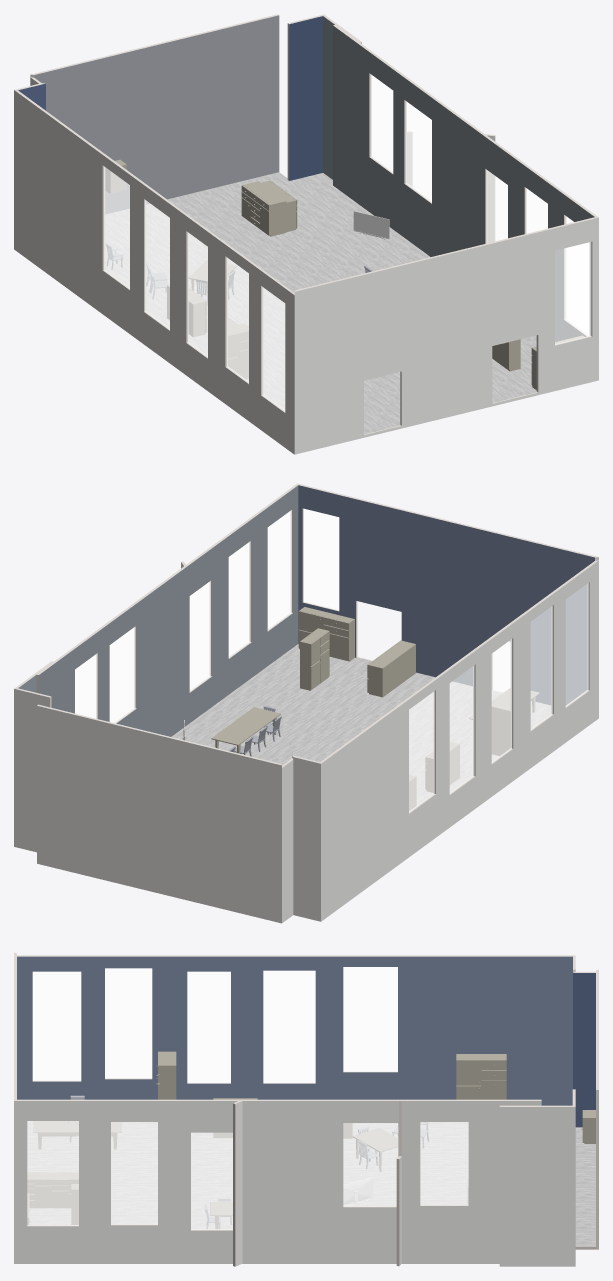
The model's file is Big room.glb.
3 views of the same model, one above another, from view 1: azimuth 30°, elevation 25°; view 2: azimuth 150°, elevation 25°; view 3: azimuth 270°, elevation 25° (orthographic).
Parts seen in each view (by area): view 1: wall_7, wall_11, wall_24, floor_Dining_Room, wall_16, wall_12, wall_30, wall_18, window_5, window_16, window_2, window_13 (+27 smaller); view 2: wall_6, wall_11, wall_26, floor_Dining_Room, wall_18, wall_16, wall_8, wall_9, window_5, window_16, wall_12, wall_35 (+29 smaller); view 3: wall_34, wall_3, wall_2, floor_Dining_Room, wall_5, wall_0, window_2, window_13, window_10, window_21, window_7, window_18 (+30 smaller).
Part boxes in pixels (x1,y1,x2,y2): wall_7: [294, 217, 598, 454]; wall_11: [14, 90, 294, 454]; wall_24: [34, 15, 279, 213]; floor_Dining_Room: [105, 172, 536, 434]; wall_16: [403, 77, 482, 256]; wall_12: [333, 25, 402, 236]; wall_30: [289, 16, 322, 180]; wall_18: [482, 135, 594, 341]; window_5: [555, 242, 590, 344]; window_16: [555, 242, 590, 344]; window_2: [145, 200, 169, 328]; window_13: [145, 200, 169, 328]; wall_6: [37, 706, 281, 923]; wall_11: [321, 560, 598, 921]; wall_26: [298, 485, 594, 704]; floor_Dining_Room: [171, 644, 550, 804]; wall_18: [187, 485, 298, 724]; wall_16: [108, 567, 186, 736]; wall_8: [293, 757, 320, 921]; wall_9: [14, 689, 49, 852]; window_5: [303, 509, 338, 610]; window_16: [303, 509, 338, 610]; wall_12: [38, 624, 108, 721]; wall_35: [320, 560, 598, 813]; wall_34: [17, 956, 572, 1105]; wall_3: [14, 1101, 237, 1263]; wall_2: [242, 1101, 398, 1263]; floor_Dining_Room: [27, 1121, 595, 1246]; wall_5: [499, 1107, 575, 1266]; wall_0: [402, 1101, 541, 1263]; window_2: [263, 971, 315, 1082]; window_13: [263, 971, 315, 1082]; window_10: [343, 967, 397, 1071]; window_21: [343, 967, 397, 1071]; window_7: [27, 1121, 78, 1225]; window_18: [27, 1121, 78, 1225].
Bounding box in the file's own units: 12.19 × 6.09 × 19.81.
Materials: 53 (1 with a texture image).
